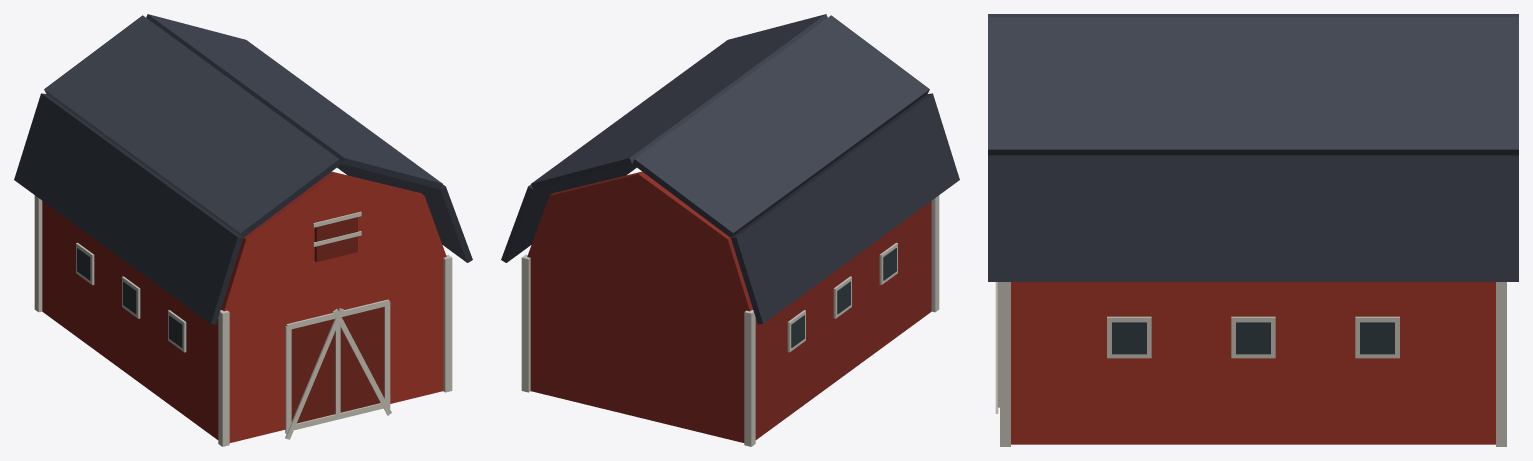
Rendered from sn_barn.glb.
The picture shows the model from 3 angles, left to right: view 1: azimuth 30°, elevation 25°; view 2: azimuth 150°, elevation 25°; view 3: azimuth 270°, elevation 25°; orthographic projection. The views are drawn at different scales.
Parts seen in each view (by area): view 1: sn_barn; view 2: sn_barn; view 3: sn_barn.
Part boxes in pixels (box(x1,y1,x2,y2)): sn_barn: box(14, 14, 472, 446); sn_barn: box(501, 14, 959, 446); sn_barn: box(988, 14, 1518, 446).
Bounding box in the file's own units: 8.24 × 8.15 × 10.7.
